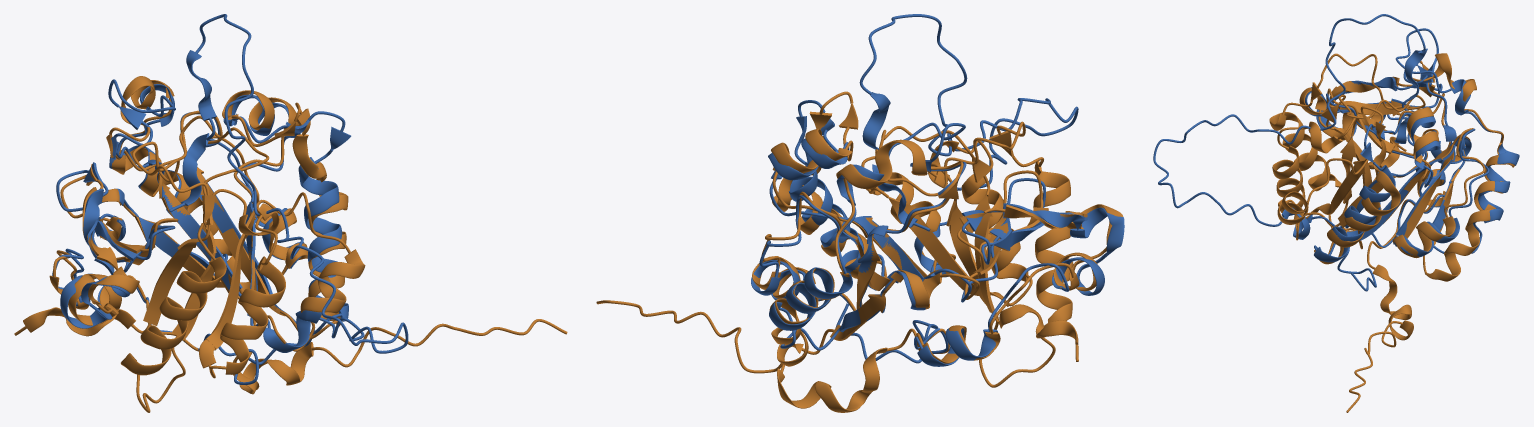
Rendered from AF-D5EID4-F1-AF-A0A7P0TA11-F1.glb.
The picture shows the model from 3 angles, left to right: view 1: azimuth 30°, elevation 25°; view 2: azimuth 150°, elevation 25°; view 3: azimuth 270°, elevation 25°; orthographic projection. The views are drawn at different scales.
Bounding box in the file's own units: 80.59 × 58.47 × 65.69.
